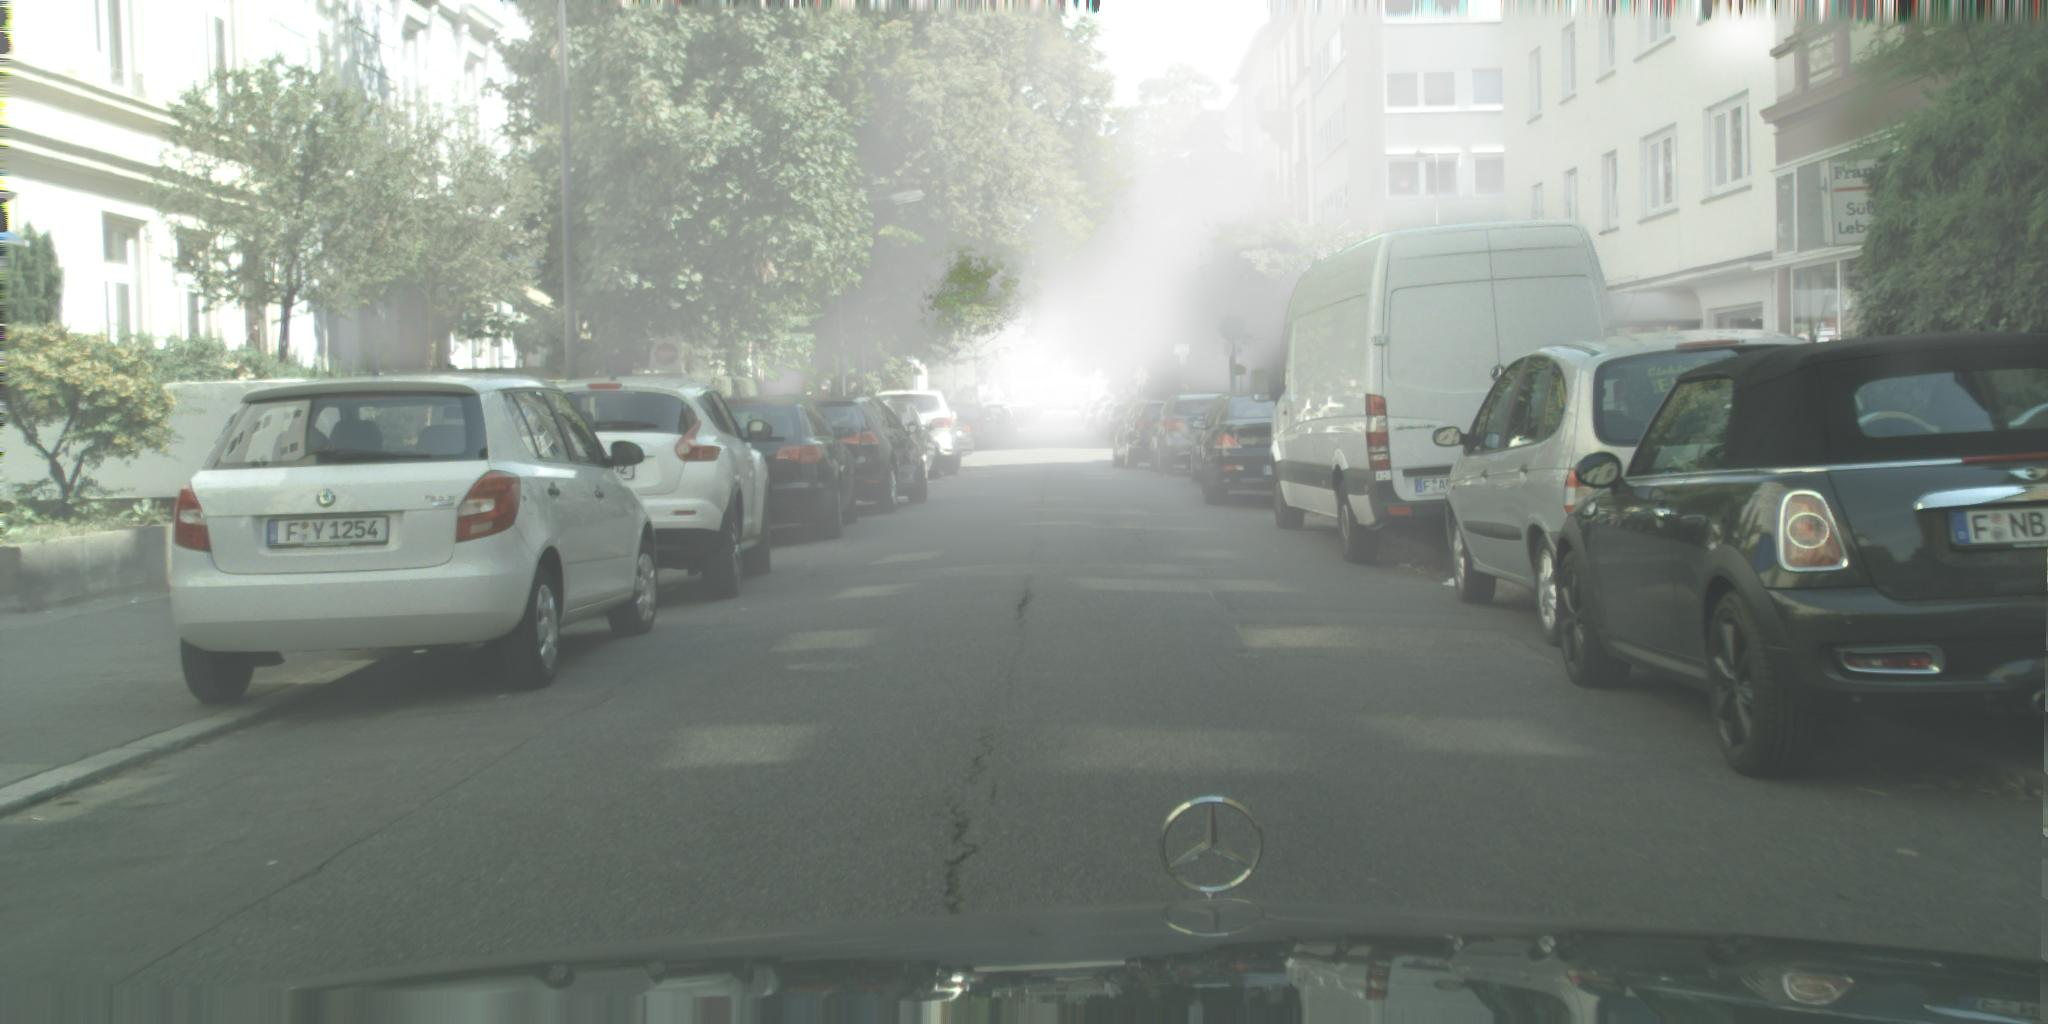car: (1556, 333, 2048, 777), (172, 374, 660, 704), (1253, 219, 1625, 564), (1433, 330, 1823, 647), (546, 360, 772, 598), (718, 394, 857, 538), (799, 397, 929, 513), (1192, 370, 1292, 505), (875, 389, 961, 475), (1149, 394, 1236, 477), (867, 400, 940, 479), (1189, 397, 1249, 485), (1113, 400, 1172, 470), (946, 401, 987, 449), (984, 404, 1014, 439), (1096, 404, 1125, 439), (947, 421, 974, 457), (1108, 404, 1135, 440), (974, 406, 999, 445), (1085, 401, 1113, 432), (1000, 408, 1019, 435), (1081, 401, 1098, 421), (1079, 401, 1091, 415), (1067, 404, 1085, 411), (1038, 404, 1054, 411)
